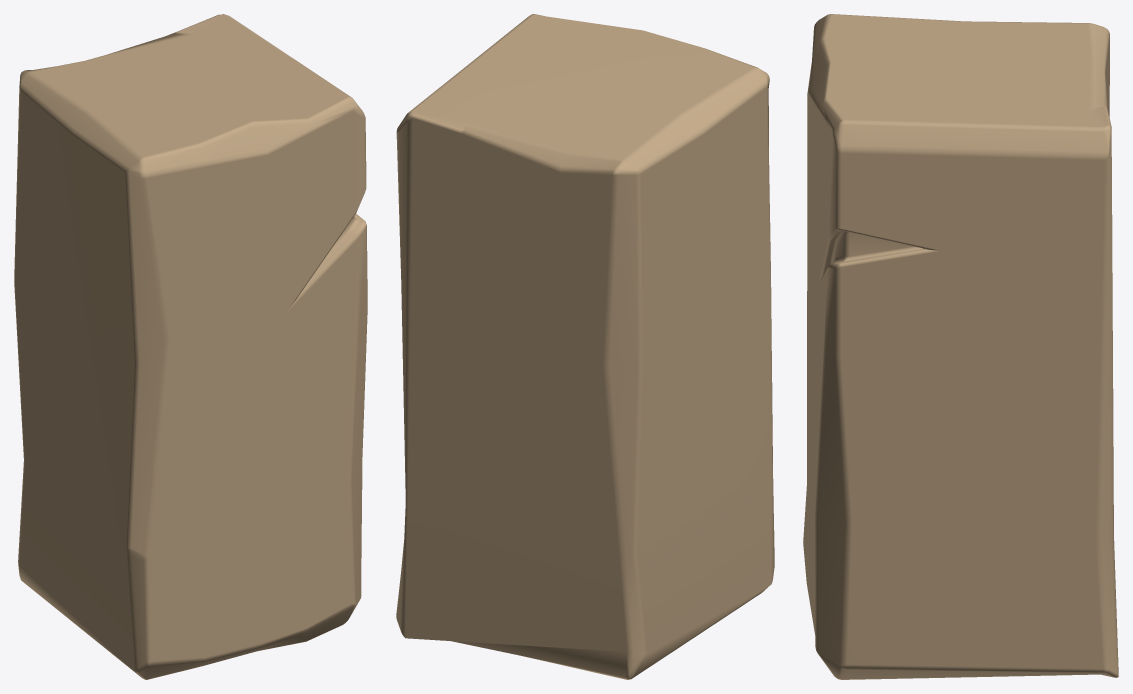
The model's file is brick03s1.glb.
The picture shows the model from 3 angles, left to right: view 1: azimuth 30°, elevation 25°; view 2: azimuth 150°, elevation 25°; view 3: azimuth 270°, elevation 25°; orthographic projection. The views are drawn at different scales.
Visible parts, largest first — view 1: Brick05.s1; view 2: Brick05.s1; view 3: Brick05.s1.
Part boxes in pixels (x1,y1,x2,y2): Brick05.s1: [14, 14, 367, 679]; Brick05.s1: [396, 14, 774, 679]; Brick05.s1: [803, 14, 1118, 679].
Size of the model in its own units: 0.3709 by 0.7705 by 0.3848.
